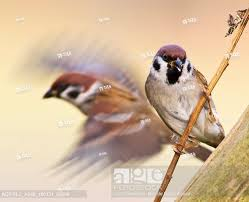hsparrow: (142, 36, 226, 157)
